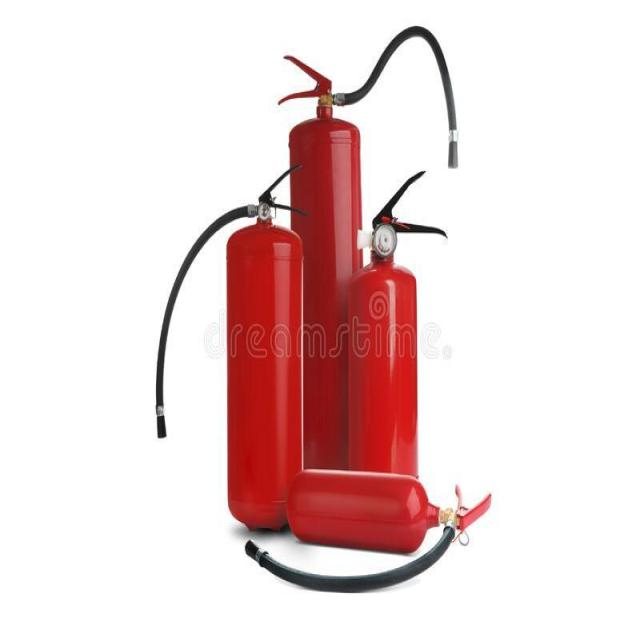fire_extinguisher: (274, 21, 463, 528), (150, 157, 311, 543), (339, 170, 453, 520), (236, 458, 504, 599)
